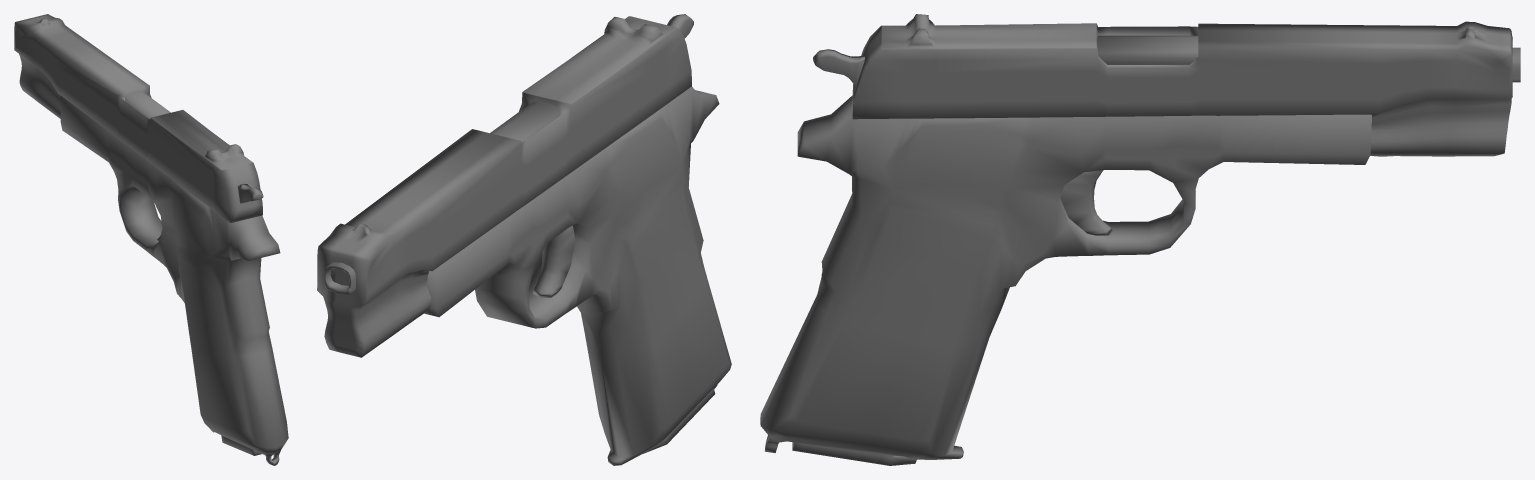
File: pistal.fbx
3 views of the same model, side by side, from view 1: azimuth 30°, elevation 25°; view 2: azimuth 150°, elevation 25°; view 3: azimuth 270°, elevation 25° (orthographic). The views are drawn at different scales.
Parts seen in each view (by area): view 1: node_id42, node_id40, node_id38, node_id34; view 2: node_id42, node_id40, node_id38, node_id36, node_id32; view 3: node_id42, node_id40, node_id38, node_id36, node_id32, node_id34.
Boxes of the visible parts, x1,y1,x2,y2 form: node_id42: (60, 95, 288, 465); node_id40: (14, 14, 262, 222); node_id38: (124, 91, 170, 119); node_id34: (237, 183, 263, 203); node_id42: (424, 86, 731, 465); node_id40: (317, 16, 691, 357); node_id38: (324, 101, 560, 294); node_id36: (533, 225, 575, 297); node_id32: (643, 388, 715, 453); node_id42: (760, 95, 1371, 459); node_id40: (852, 14, 1512, 156); node_id38: (1097, 35, 1520, 82); node_id36: (1060, 170, 1112, 235); node_id32: (792, 442, 916, 465); node_id34: (813, 49, 864, 85).
Bounding box in the file's own units: 0.0828 × 0.499 × 0.7845.
7 materials, 7 textured.
